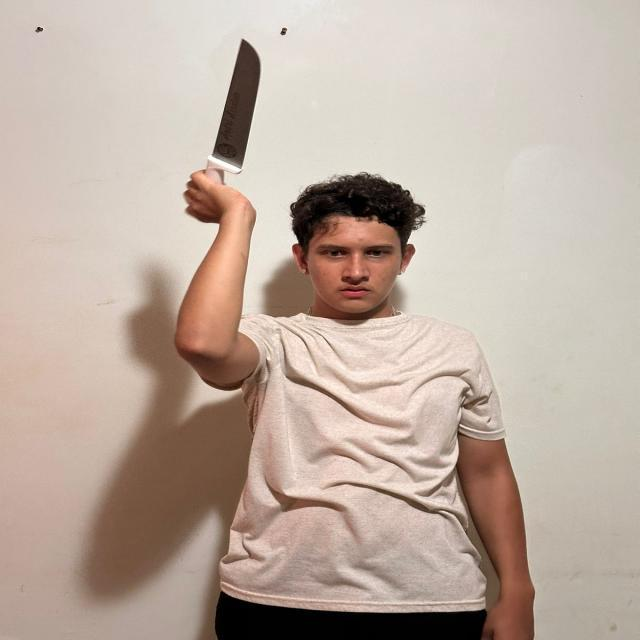knife: (214, 39, 264, 159)
